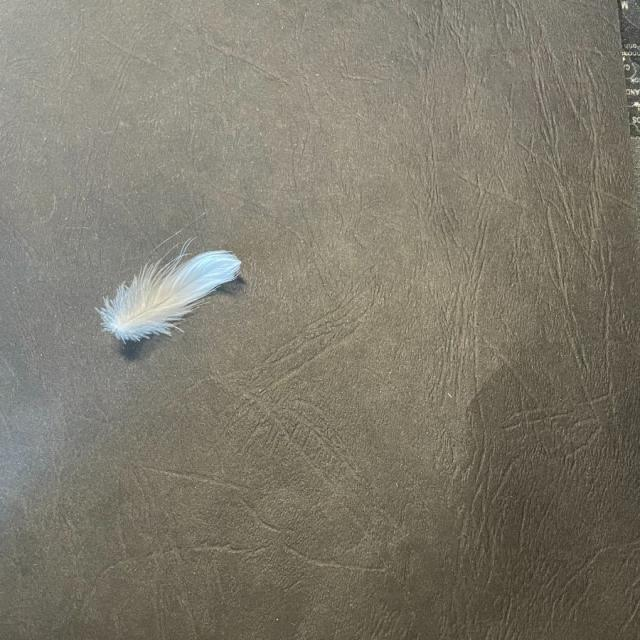feather: (94, 240, 239, 350)
